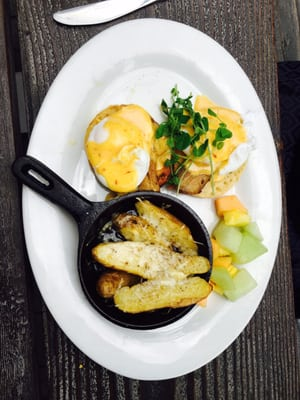salad: (13, 156, 216, 332)
sushi: (12, 12, 293, 372)
